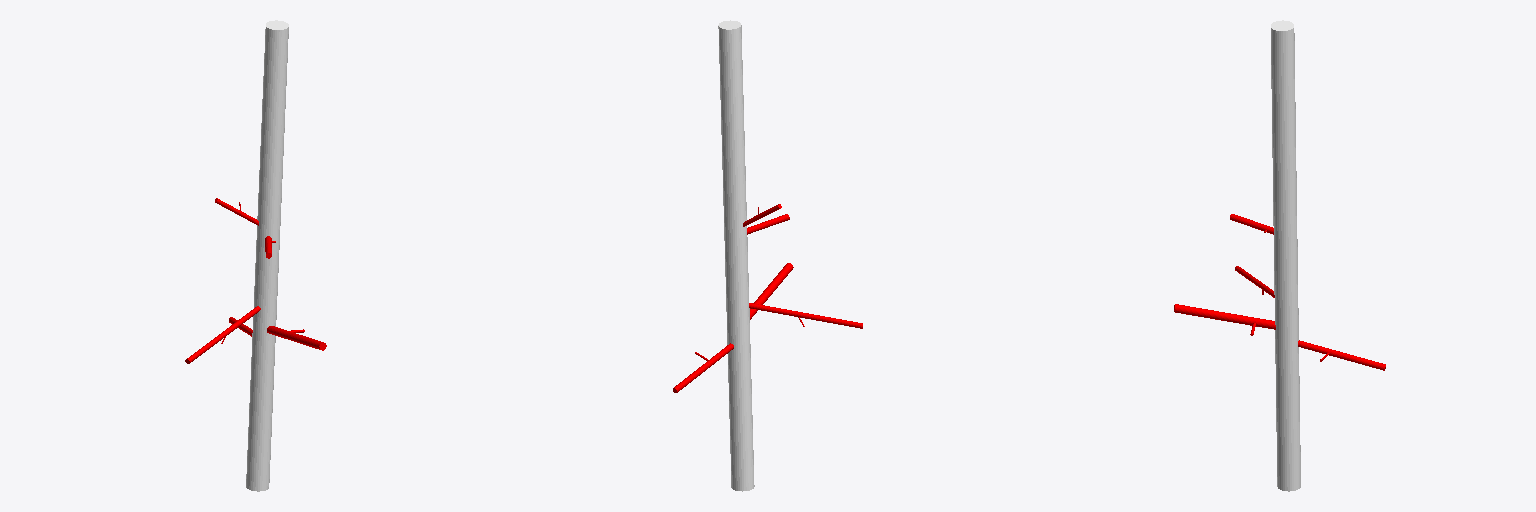
URDF robot description (tree_160.urdf):
<?xml version='1.0' encoding='UTF-8'?>
<robot name="tree_160.urdf">
  <link name="branch_0">
    <inertial>
      <origin xyz="0.0 0.0 0.0" rpy="0.0 -0.0 0.0"/>
      <mass value="0.1"/>
      <inertia ixx="0.001" ixy="0.0" ixz="0.0" iyy="0.001" iyz="0.0" izz="0.001"/>
    </inertial>
    <visual name="branch_0_visual">
      <geometry>
        <cylinder radius="0.19667247391392167" length="8.532953159643007"/>
      </geometry>
      <material name="branch_material"/>
      <origin xyz="0.15954377395360478 -0.05533362541422152 4.263133399303446" rpy="-4.9168490017981536e-18 0.03959028168423196 -0.3338427106313449"/>
    </visual>
    <collision name="branch_0_collision">
      <geometry>
        <cylinder radius="0.19667247391392167" length="8.532953159643007"/>
      </geometry>
      <origin xyz="0.15954377395360478 -0.05533362541422152 4.263133399303446" rpy="-4.9168490017981536e-18 0.03959028168423196 -0.3338427106313449"/>
    </collision>
  </link>
  <link name="branch_1">
    <inertial>
      <origin xyz="0.0 0.0 0.0" rpy="0.0 -0.0 0.0"/>
      <mass value="0.1"/>
      <inertia ixx="0.001" ixy="0.0" ixz="0.0" iyy="0.001" iyz="0.0" izz="0.001"/>
    </inertial>
    <visual name="branch_1_visual">
      <geometry>
        <cylinder radius="0.0403977310838318" length="1.1774918035055286"/>
      </geometry>
      <material name="semantic_material"/>
      <origin xyz="0.0 0.0 0.0" rpy="0.0 -0.0 0.0"/>
    </visual>
    <collision name="branch_1_collision">
      <geometry>
        <cylinder radius="0.0403977310838318" length="1.1774918035055286"/>
      </geometry>
      <origin xyz="0.0 0.0 0.0" rpy="0.0 -0.0 0.0"/>
    </collision>
  </link>
  <link name="branch_2">
    <inertial>
      <origin xyz="0.0 0.0 0.0" rpy="0.0 -0.0 0.0"/>
      <mass value="0.1"/>
      <inertia ixx="0.001" ixy="0.0" ixz="0.0" iyy="0.001" iyz="0.0" izz="0.001"/>
    </inertial>
    <visual name="branch_2_visual">
      <geometry>
        <cylinder radius="0.010686948605136321" length="0.20804132744618636"/>
      </geometry>
      <material name="semantic_material"/>
      <origin xyz="0.0 0.0 0.0" rpy="0.0 -0.0 0.0"/>
    </visual>
    <collision name="branch_2_collision">
      <geometry>
        <cylinder radius="0.010686948605136321" length="0.20804132744618636"/>
      </geometry>
      <origin xyz="0.0 0.0 0.0" rpy="0.0 -0.0 0.0"/>
    </collision>
  </link>
  <link name="branch_3">
    <inertial>
      <origin xyz="0.0 0.0 0.0" rpy="0.0 -0.0 0.0"/>
      <mass value="0.1"/>
      <inertia ixx="0.001" ixy="0.0" ixz="0.0" iyy="0.001" iyz="0.0" izz="0.001"/>
    </inertial>
    <visual name="branch_3_visual">
      <geometry>
        <cylinder radius="0.05429052059199863" length="1.69244056037965"/>
      </geometry>
      <material name="semantic_material"/>
      <origin xyz="0.0 0.0 0.0" rpy="0.0 -0.0 0.0"/>
    </visual>
    <collision name="branch_3_collision">
      <geometry>
        <cylinder radius="0.05429052059199863" length="1.69244056037965"/>
      </geometry>
      <origin xyz="0.0 0.0 0.0" rpy="0.0 -0.0 0.0"/>
    </collision>
  </link>
  <link name="branch_4">
    <inertial>
      <origin xyz="0.0 0.0 0.0" rpy="0.0 -0.0 0.0"/>
      <mass value="0.1"/>
      <inertia ixx="0.001" ixy="0.0" ixz="0.0" iyy="0.001" iyz="0.0" izz="0.001"/>
    </inertial>
    <visual name="branch_4_visual">
      <geometry>
        <cylinder radius="0.018078417744359414" length="0.4134006575097026"/>
      </geometry>
      <material name="semantic_material"/>
      <origin xyz="0.0 0.0 0.0" rpy="0.0 -0.0 0.0"/>
    </visual>
    <collision name="branch_4_collision">
      <geometry>
        <cylinder radius="0.018078417744359414" length="0.4134006575097026"/>
      </geometry>
      <origin xyz="0.0 0.0 0.0" rpy="0.0 -0.0 0.0"/>
    </collision>
  </link>
  <link name="branch_5">
    <inertial>
      <origin xyz="0.0 0.0 0.0" rpy="0.0 -0.0 0.0"/>
      <mass value="0.1"/>
      <inertia ixx="0.001" ixy="0.0" ixz="0.0" iyy="0.001" iyz="0.0" izz="0.001"/>
    </inertial>
    <visual name="branch_5_visual">
      <geometry>
        <cylinder radius="0.07070601379141758" length="1.896258331732129"/>
      </geometry>
      <material name="semantic_material"/>
      <origin xyz="0.0 0.0 0.0" rpy="0.0 -0.0 0.0"/>
    </visual>
    <collision name="branch_5_collision">
      <geometry>
        <cylinder radius="0.07070601379141758" length="1.896258331732129"/>
      </geometry>
      <origin xyz="0.0 0.0 0.0" rpy="0.0 -0.0 0.0"/>
    </collision>
  </link>
  <link name="branch_6">
    <inertial>
      <origin xyz="0.0 0.0 0.0" rpy="0.0 -0.0 0.0"/>
      <mass value="0.1"/>
      <inertia ixx="0.001" ixy="0.0" ixz="0.0" iyy="0.001" iyz="0.0" izz="0.001"/>
    </inertial>
    <visual name="branch_6_visual">
      <geometry>
        <cylinder radius="0.026322757685699204" length="0.4218847737460291"/>
      </geometry>
      <material name="semantic_material"/>
      <origin xyz="0.0 0.0 0.0" rpy="0.0 -0.0 0.0"/>
    </visual>
    <collision name="branch_6_collision">
      <geometry>
        <cylinder radius="0.026322757685699204" length="0.4218847737460291"/>
      </geometry>
      <origin xyz="0.0 0.0 0.0" rpy="0.0 -0.0 0.0"/>
    </collision>
  </link>
  <link name="branch_7">
    <inertial>
      <origin xyz="0.0 0.0 0.0" rpy="0.0 -0.0 0.0"/>
      <mass value="0.1"/>
      <inertia ixx="0.001" ixy="0.0" ixz="0.0" iyy="0.001" iyz="0.0" izz="0.001"/>
    </inertial>
    <visual name="branch_7_visual">
      <geometry>
        <cylinder radius="0.046736786623899795" length="2.161469513733662"/>
      </geometry>
      <material name="semantic_material"/>
      <origin xyz="0.0 0.0 0.0" rpy="0.0 -0.0 0.0"/>
    </visual>
    <collision name="branch_7_collision">
      <geometry>
        <cylinder radius="0.046736786623899795" length="2.161469513733662"/>
      </geometry>
      <origin xyz="0.0 0.0 0.0" rpy="0.0 -0.0 0.0"/>
    </collision>
  </link>
  <link name="branch_8">
    <inertial>
      <origin xyz="0.0 0.0 0.0" rpy="0.0 -0.0 0.0"/>
      <mass value="0.1"/>
      <inertia ixx="0.001" ixy="0.0" ixz="0.0" iyy="0.001" iyz="0.0" izz="0.001"/>
    </inertial>
    <visual name="branch_8_visual">
      <geometry>
        <cylinder radius="0.01229384517621261" length="0.24671805982432246"/>
      </geometry>
      <material name="semantic_material"/>
      <origin xyz="0.0 0.0 0.0" rpy="0.0 -0.0 0.0"/>
    </visual>
    <collision name="branch_8_collision">
      <geometry>
        <cylinder radius="0.01229384517621261" length="0.24671805982432246"/>
      </geometry>
      <origin xyz="0.0 0.0 0.0" rpy="0.0 -0.0 0.0"/>
    </collision>
  </link>
  <link name="branch_9">
    <inertial>
      <origin xyz="0.0 0.0 0.0" rpy="0.0 -0.0 0.0"/>
      <mass value="0.1"/>
      <inertia ixx="0.001" ixy="0.0" ixz="0.0" iyy="0.001" iyz="0.0" izz="0.001"/>
    </inertial>
    <visual name="branch_9_visual">
      <geometry>
        <cylinder radius="0.05500706621427316" length="1.0333394965144114"/>
      </geometry>
      <material name="semantic_material"/>
      <origin xyz="0.0 0.0 0.0" rpy="0.0 -0.0 0.0"/>
    </visual>
    <collision name="branch_9_collision">
      <geometry>
        <cylinder radius="0.05500706621427316" length="1.0333394965144114"/>
      </geometry>
      <origin xyz="0.0 0.0 0.0" rpy="0.0 -0.0 0.0"/>
    </collision>
  </link>
  <link name="branch_10">
    <inertial>
      <origin xyz="0.0 0.0 0.0" rpy="0.0 -0.0 0.0"/>
      <mass value="0.1"/>
      <inertia ixx="0.001" ixy="0.0" ixz="0.0" iyy="0.001" iyz="0.0" izz="0.001"/>
    </inertial>
    <visual name="branch_10_visual">
      <geometry>
        <cylinder radius="0.016212312432792628" length="0.11672639047451949"/>
      </geometry>
      <material name="semantic_material"/>
      <origin xyz="0.0 0.0 0.0" rpy="0.0 -0.0 0.0"/>
    </visual>
    <collision name="branch_10_collision">
      <geometry>
        <cylinder radius="0.016212312432792628" length="0.11672639047451949"/>
      </geometry>
      <origin xyz="0.0 0.0 0.0" rpy="0.0 -0.0 0.0"/>
    </collision>
  </link>
  <joint name="joint_0_1" type="fixed">
    <parent link="branch_0"/>
    <child link="branch_1"/>
    <axis xyz="1. 0. 0."/>
    <origin xyz="-0.2934010613815748 0.004683592243698074 5.1138768390137885" rpy="-0.012624244350905834 0.943029406488332 2.9858316276433037"/>
  </joint>
  <joint name="joint_0_3" type="fixed">
    <parent link="branch_0"/>
    <child link="branch_3"/>
    <axis xyz="1. 0. 0."/>
    <origin xyz="0.2571329483473596 0.7775170735386753 2.524365304424086" rpy="2.95660956982507 1.3559326293267122 -1.9497317627109505"/>
  </joint>
  <joint name="joint_0_5" type="fixed">
    <parent link="branch_0"/>
    <child link="branch_5"/>
    <axis xyz="1. 0. 0."/>
    <origin xyz="0.1429808537648237 -0.966125157746614 3.1308880513705724" rpy="-0.18116312842044321 1.3638412030740614 -1.720293962185843"/>
  </joint>
  <joint name="joint_0_7" type="fixed">
    <parent link="branch_0"/>
    <child link="branch_7"/>
    <axis xyz="1. 0. 0."/>
    <origin xyz="-0.8639774919352309 -0.4502547276703605 3.2414129483672536" rpy="-2.9493489069218395 1.4326760941363719 0.5832120005744044"/>
  </joint>
  <joint name="joint_0_9" type="fixed">
    <parent link="branch_0"/>
    <child link="branch_9"/>
    <axis xyz="1. 0. 0."/>
    <origin xyz="-0.07987457916719268 -0.5075083199064508 4.697077757309725" rpy="-0.3777963594689372 1.4651508385967458 -2.466654807944302"/>
  </joint>
  <joint name="joint_1_2" type="fixed">
    <parent link="branch_0"/>
    <child link="branch_2"/>
    <axis xyz="1. 0. 0."/>
    <origin xyz="-0.3207406688688772 0.02711074475581766 5.2342893270214494" rpy="-0.18298670764409036 -0.025159136969032207 -0.0008660383279491051"/>
  </joint>
  <joint name="joint_3_4" type="fixed">
    <parent link="branch_0"/>
    <child link="branch_4"/>
    <axis xyz="1. 0. 0."/>
    <origin xyz="0.4289093304477613 0.5967556689981381 2.5599426398672915" rpy="-1.5084143851021623 -0.20297979635742253 -1.958457235308939"/>
  </joint>
  <joint name="joint_5_6" type="fixed">
    <parent link="branch_0"/>
    <child link="branch_6"/>
    <axis xyz="1. 0. 0."/>
    <origin xyz="0.33667803143989206 -0.5874269191943385 3.027634967284147" rpy="1.6642904631057818 0.21962470339764817 1.456448922546985"/>
  </joint>
  <joint name="joint_7_8" type="fixed">
    <parent link="branch_0"/>
    <child link="branch_8"/>
    <axis xyz="1. 0. 0."/>
    <origin xyz="-0.8832709263855854 -0.4316229964834396 3.1451770137037682" rpy="-2.8507481343387093 0.5067732333528182 0.5687729063647237"/>
  </joint>
  <joint name="joint_9_10" type="fixed">
    <parent link="branch_0"/>
    <child link="branch_10"/>
    <axis xyz="1. 0. 0."/>
    <origin xyz="0.06100411491267623 -0.3761319898283551 4.676115214327749" rpy="1.6337227140726422 0.09007611805552447 1.1991068040416566"/>
  </joint>
  <material name="branch_material">
    <color rgba="1. 1. 1. 1."/>
  </material>
  <material name="semantic_material">
    <color rgba="1. 0. 0. 1."/>
  </material>
</robot>

--- Facts derived from the render (not from the file) ---
3 views of the same robot in one strip: view 1: azimuth 30°, elevation 25°; view 2: azimuth 150°, elevation 25°; view 3: azimuth 270°, elevation 25° (orthographic).
Robot: tree_160.urdf — 11 links, 10 joints (10 fixed); root link branch_0; default pose: all joints at 0.
Links seen in each view (by area): view 1: branch_0; view 2: branch_0, branch_7; view 3: branch_0, branch_5, branch_3.
Link boxes in pixels (left/top/right/bottom): branch_0: left=246, top=20, right=288, bottom=491; branch_0: left=718, top=20, right=754, bottom=491; branch_7: left=749, top=303, right=862, bottom=328; branch_0: left=1271, top=20, right=1300, bottom=491; branch_5: left=1174, top=304, right=1275, bottom=329; branch_3: left=1298, top=340, right=1385, bottom=370.
Bounding box of the posed robot: 2.5 × 3.51 × 8.54 m (x, y, z).
Geometry: primitives only (box / cylinder / sphere), no mesh files.